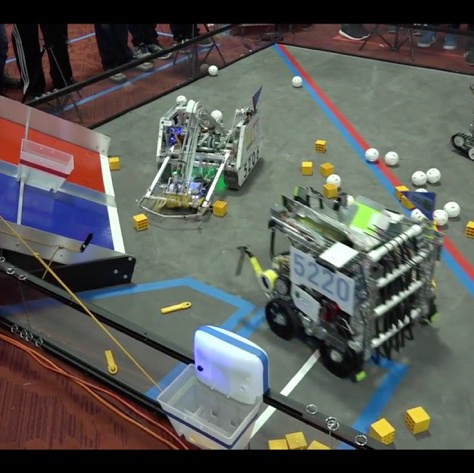robot: (239, 181, 443, 384), (133, 87, 267, 226)
